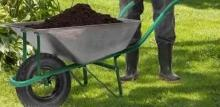BROUETTE: (2, 13, 174, 107)
